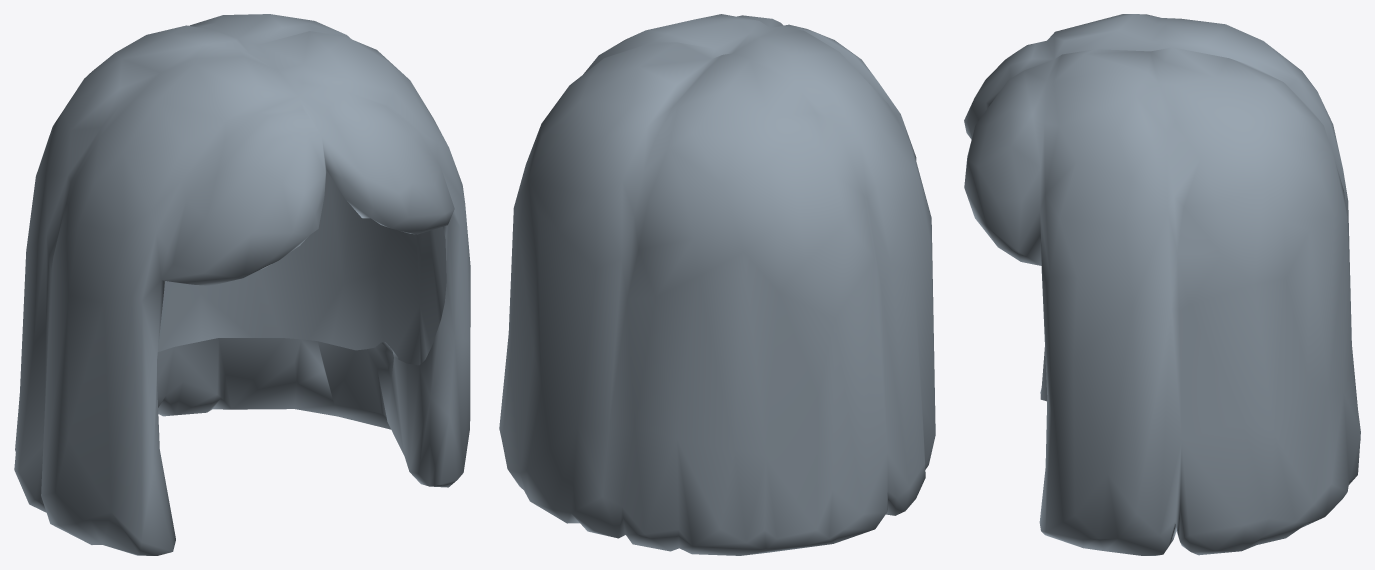
Rendered from cabelo_4.glb.
3 views of the same model, side by side, from view 1: azimuth 30°, elevation 25°; view 2: azimuth 150°, elevation 25°; view 3: azimuth 270°, elevation 25° (orthographic). The views are drawn at different scales.
Parts seen in each view (by area): view 1: cabelo_4; view 2: cabelo_4; view 3: cabelo_4.
Part boxes in pixels (left/top/right/bottom): cabelo_4: left=14, top=14, right=470, bottom=555; cabelo_4: left=499, top=14, right=935, bottom=555; cabelo_4: left=964, top=14, right=1360, bottom=555.
Bounding box in the file's own units: 0.2109 × 0.2243 × 0.1859.
